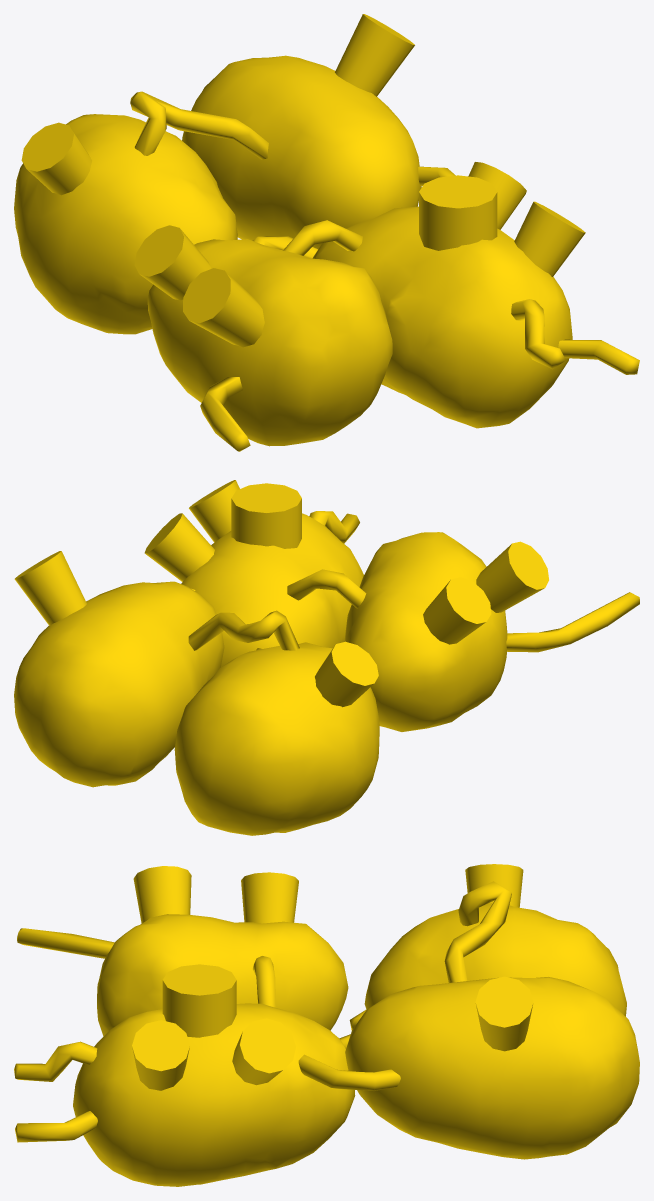
File: GoldPotatoEngine.obj
The picture shows the model from 3 angles, top to bottom: view 1: azimuth 30°, elevation 25°; view 2: azimuth 150°, elevation 25°; view 3: azimuth 270°, elevation 25°; orthographic projection. The views are drawn at different scales.
Parts seen in each view (by area): view 1: Handle; view 2: Handle; view 3: Handle.
Boxes of the visible parts, box(x1,y1,x2,y2) form: Handle: box(14, 14, 639, 451); Handle: box(14, 480, 639, 835); Handle: box(14, 864, 639, 1186).
Size of the model in its own units: 1.47 by 0.8184 by 1.95.
